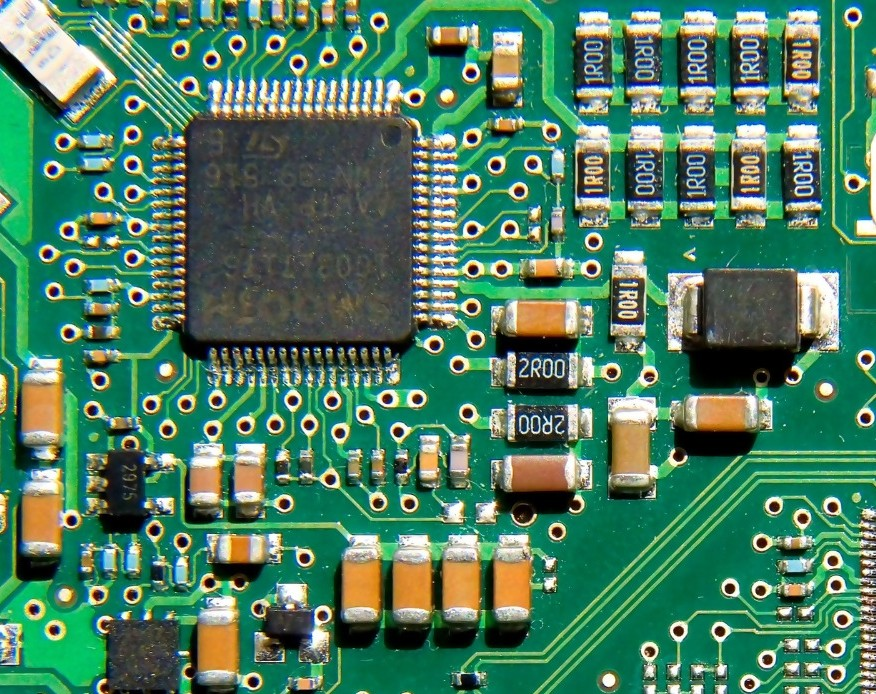Connector P: (674, 16, 720, 100), (779, 131, 825, 215), (569, 19, 616, 101), (673, 131, 719, 214), (392, 545, 433, 637), (622, 132, 667, 215), (621, 18, 667, 99), (727, 18, 772, 100), (728, 130, 770, 212), (607, 254, 649, 336), (503, 400, 584, 441), (440, 545, 481, 626), (782, 17, 821, 95), (573, 137, 612, 209), (688, 393, 760, 429), (236, 451, 265, 503), (274, 453, 290, 482)
Diode D: (251, 581, 325, 660)
Transformer T: (609, 397, 658, 490), (20, 473, 67, 557), (19, 365, 67, 447), (439, 537, 484, 623), (492, 535, 535, 623), (339, 540, 384, 624), (195, 606, 242, 685), (391, 539, 435, 623), (498, 452, 583, 491), (505, 296, 579, 335), (684, 393, 759, 429), (189, 449, 223, 509), (233, 448, 265, 507), (491, 36, 522, 87), (220, 533, 261, 561), (418, 437, 440, 481), (523, 257, 570, 277), (432, 25, 469, 43), (454, 672, 482, 688), (492, 116, 521, 130), (125, 550, 138, 574)
Transistor Q: (141, 64, 459, 395), (239, 104, 434, 374), (154, 105, 347, 367), (83, 437, 166, 543), (96, 607, 189, 694), (624, 141, 640, 212)
